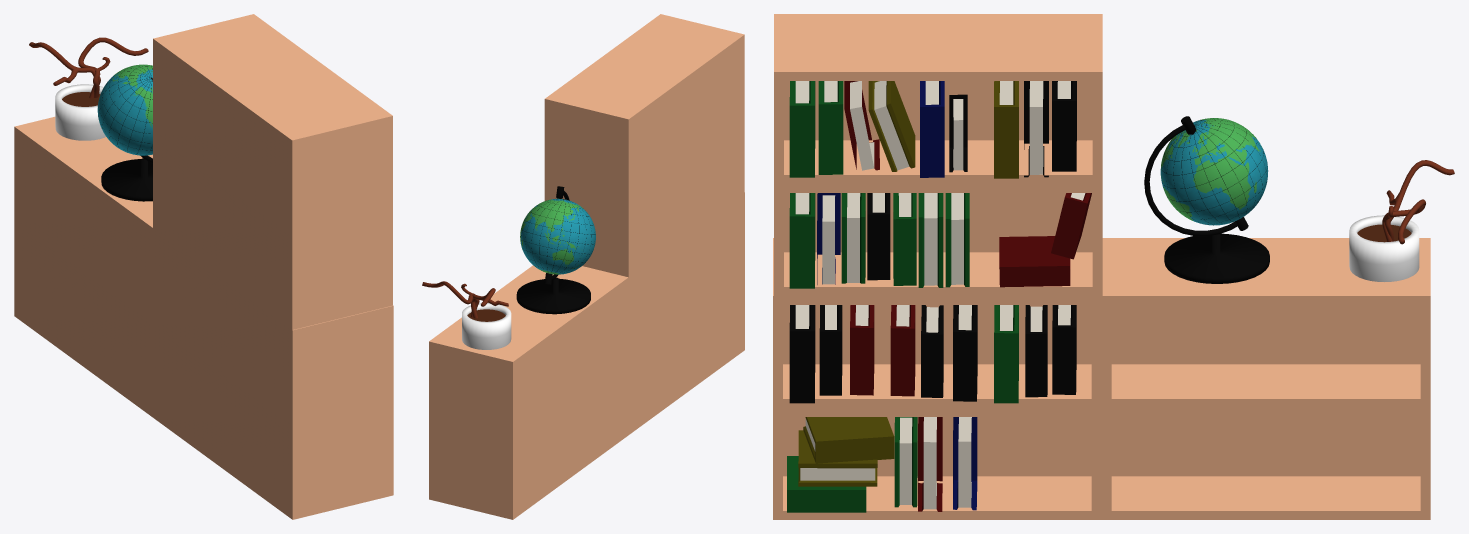
File: library.glb
3 views of the same model, side by side, from view 1: azimuth 30°, elevation 25°; view 2: azimuth 150°, elevation 25°; view 3: azimuth 270°, elevation 25° (orthographic). The views are drawn at different scales.
Parts seen in each view (by area): view 1: Gabeta Doble.001, Gabeta.002, Globe, Círculo.002, Curva_Bezier.002; view 2: Gabeta Doble.001, Gabeta.002, Globe, Círculo.002, Curva_Bezier.002; view 3: Gabeta Doble.001, Gabeta.002, Globe, Círculo.002, Curva_Bezier.002.
Part boxes in pixels (x1,y1,x2,y2): Gabeta Doble.001: (14,116,393,519); Gabeta.002: (153,14,392,329); Globe: (97,64,152,201); Círculo.002: (55,84,105,140); Curva_Bezier.002: (29,37,148,98); Gabeta Doble.001: (429,192,744,519); Gabeta.002: (544,14,744,277); Globe: (516,186,595,314); Círculo.002: (462,303,511,349); Curva_Bezier.002: (422,281,508,318); Gabeta Doble.001: (773,238,1430,519); Gabeta.002: (774,14,1102,295); Globe: (1144,116,1269,283); Círculo.002: (1349,215,1419,281); Curva_Bezier.002: (1382,160,1454,244).
Bounding box in the file's own units: 0.7504 × 2.2 × 3.04.
